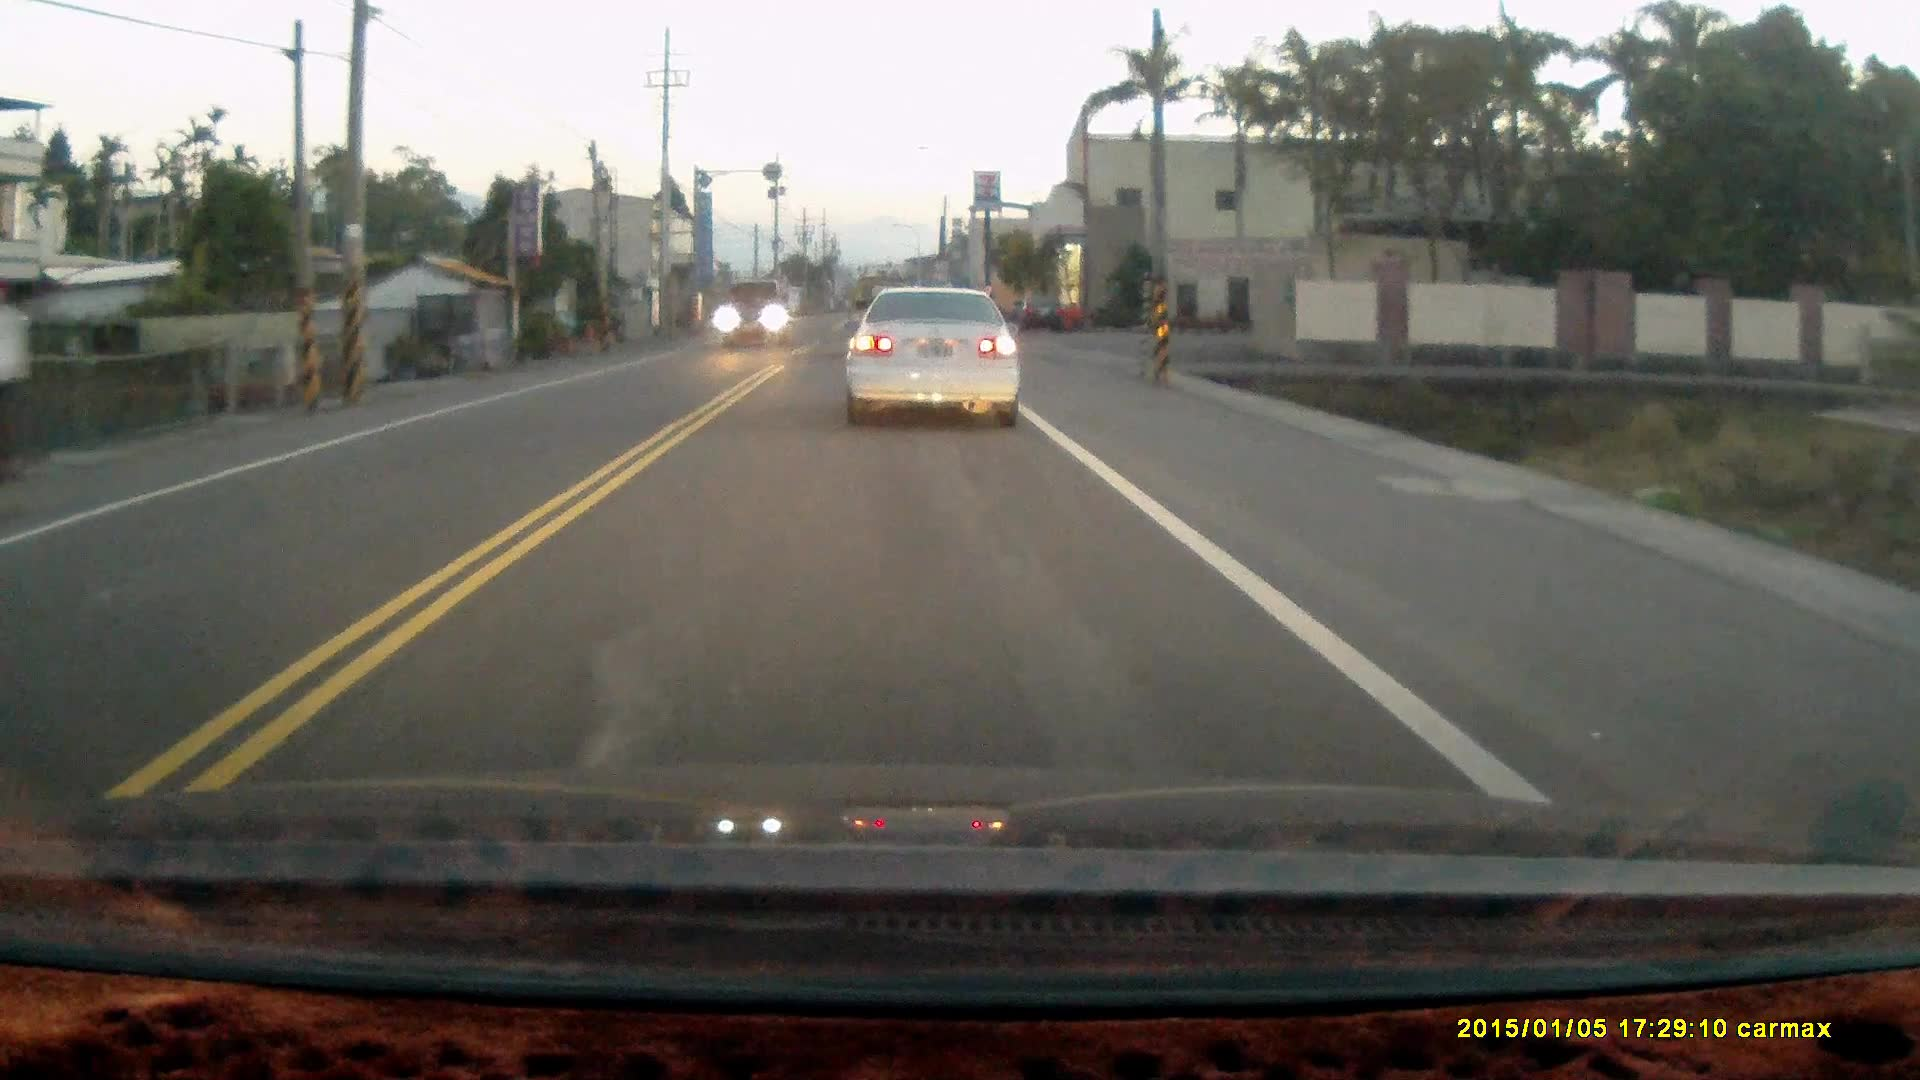rider: (2, 279, 58, 510)
vehicle: (843, 288, 1026, 428), (721, 281, 798, 348), (1013, 290, 1064, 333)
